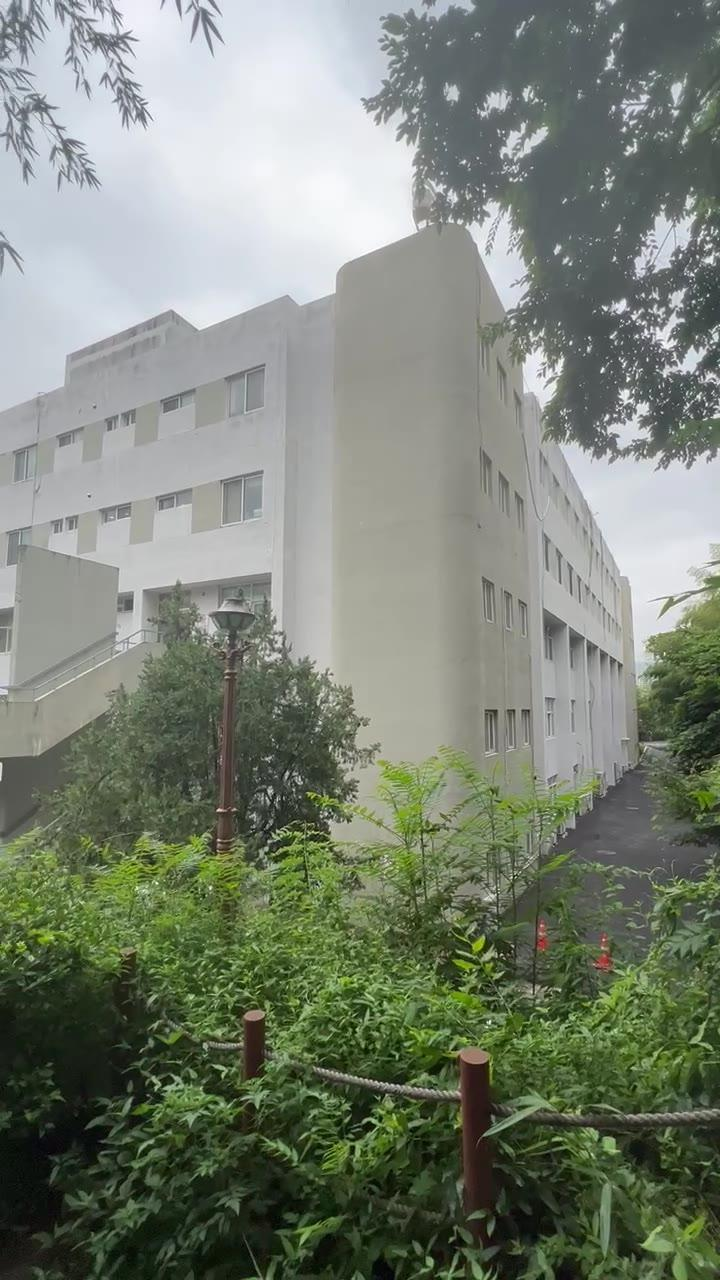building: (320, 390, 626, 750)
